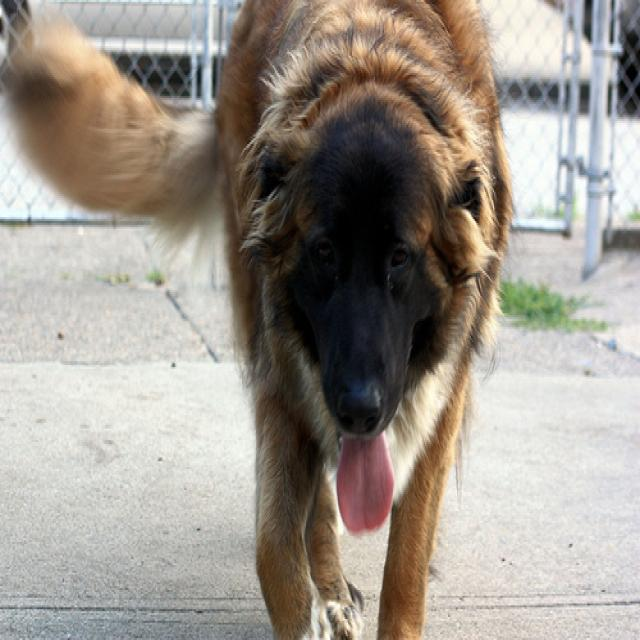dog-leonberger: (1, 2, 516, 636)
